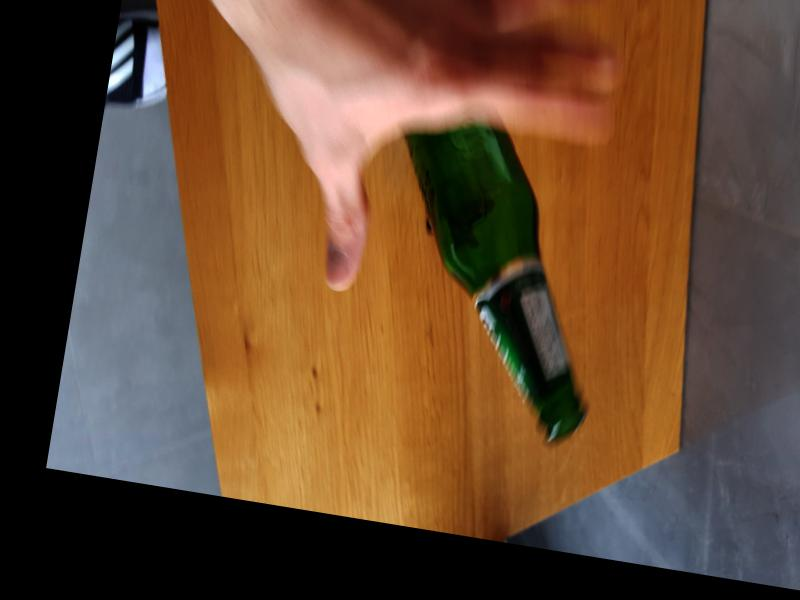Beer: (357, 114, 627, 448)
